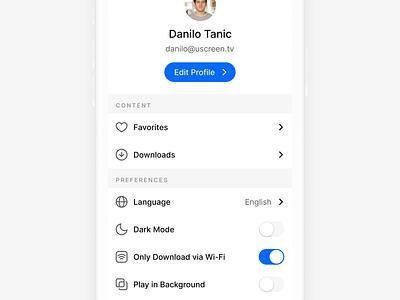button: (165, 62, 237, 84)
icon: (115, 222, 130, 238), (115, 147, 129, 163), (115, 278, 129, 294), (115, 195, 129, 210), (115, 120, 129, 134), (116, 250, 129, 265), (276, 150, 287, 164), (277, 121, 286, 134), (278, 197, 287, 210)
label: (134, 252, 229, 263), (133, 280, 208, 291), (133, 223, 177, 238), (132, 196, 172, 210), (133, 150, 178, 162), (131, 123, 170, 135), (243, 196, 274, 209)
switch: (259, 249, 286, 266), (259, 277, 286, 294), (260, 223, 286, 238)
